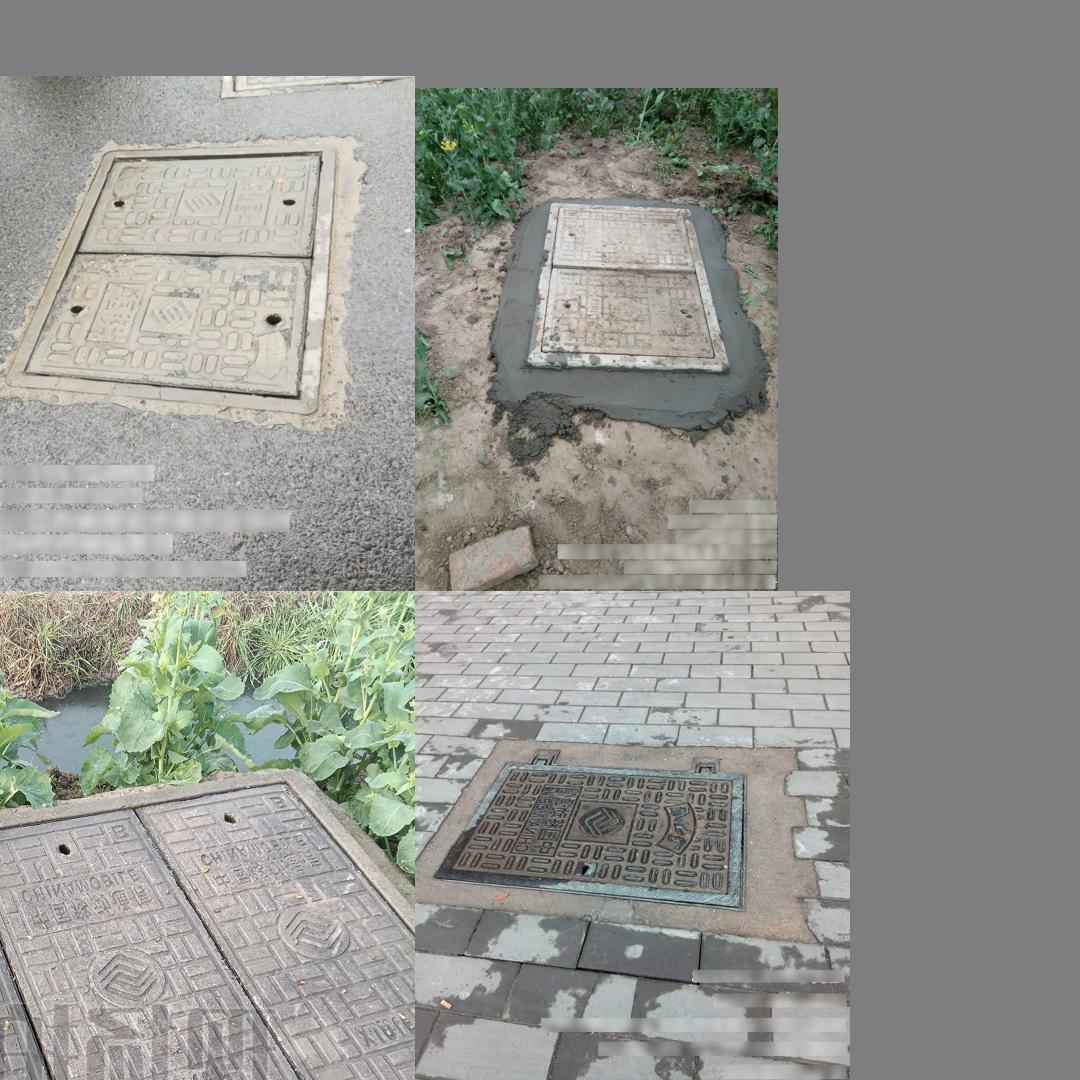good: (0, 765, 414, 1080), (6, 145, 335, 416), (430, 752, 747, 910), (529, 206, 730, 378)
